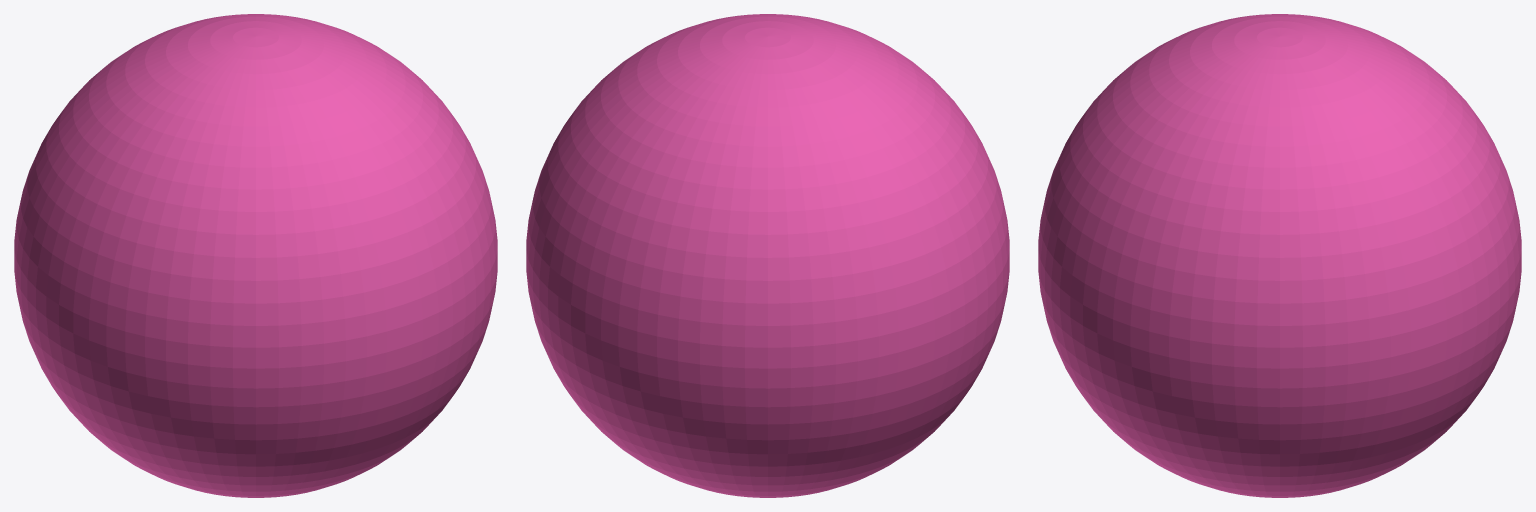
3 views of the same model, side by side, from view 1: azimuth 30°, elevation 25°; view 2: azimuth 150°, elevation 25°; view 3: azimuth 270°, elevation 25° (orthographic).
Parts seen in each view (by area): view 1: sphere; view 2: sphere; view 3: sphere.
Part boxes in pixels (x1,y1,x2,y2): sphere: [14, 14, 497, 497]; sphere: [526, 14, 1009, 497]; sphere: [1038, 14, 1521, 497].
Bounding box in the file's own units: 69.92 × 69.84 × 70.
